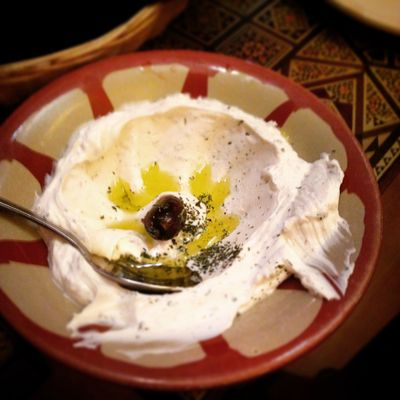sushi: (1, 0, 190, 114)
